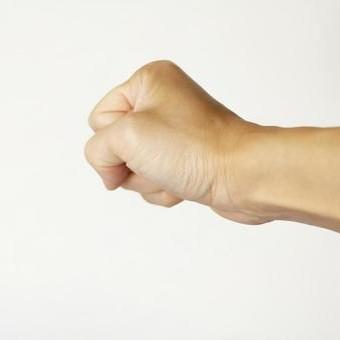gu-: (82, 59, 265, 227)
